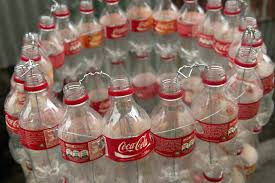Coca-Cola: (120, 139, 155, 151)
bottle: (108, 85, 156, 182)
plastic: (113, 84, 146, 177)
